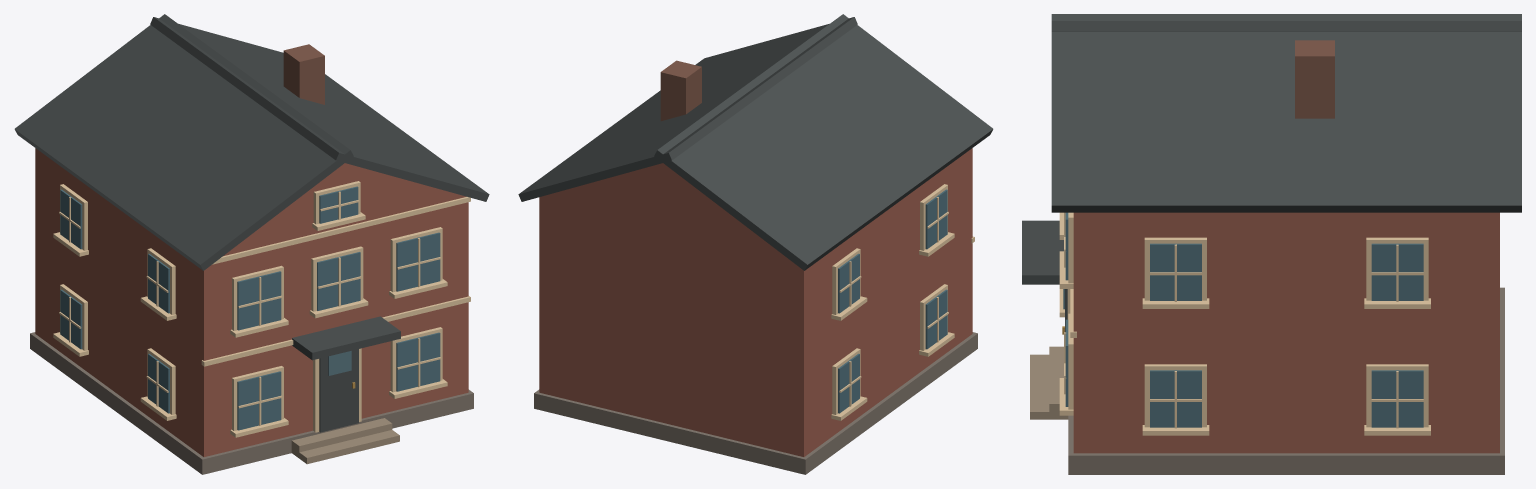
The model's file is red_gable_house.glb.
3 renders of one model, left to right at view 1: azimuth 30°, elevation 25°; view 2: azimuth 150°, elevation 25°; view 3: azimuth 270°, elevation 25°, orthographic. The views are drawn at different scales.
Visible parts, largest first — view 1: Main building, Sloping roof, Sloping roof.001, Stone foundation, Gable walls, Entry canopy, Door, Chimney, Blue glazing.007, Blue glazing.001, Blue glazing.002, Blue glazing.009 (+21 smaller); view 2: Main building, Sloping roof, Sloping roof.001, Stone foundation, Gable walls, Chimney, Blue glazing.010, Blue glazing.003, Blue glazing.011, Blue glazing.004, Window surround.011, Window surround.004 (+2 smaller); view 3: Main building, Sloping roof.001, Stone foundation, Sloping roof, Chimney, Blue glazing.013, Blue glazing.006, Blue glazing.012, Blue glazing.005, Entry canopy, Front step.001, Window surround.013 (+8 smaller).
Part boxes in pixels (x1,y1,x2,y2): Main building: (35,148,468,456); Sloping roof: (14,14,353,270); Sloping roof.001: (150,17,489,201); Stone foundation: (30,332,473,474); Gable walls: (229,163,460,251); Entry canopy: (292,316,400,360); Door: (319,349,358,432); Chimney: (283,44,324,104); Blue glazing.007: (237,271,281,330); Blue glazing.001: (237,371,281,430); Blue glazing.002: (396,332,440,391); Blue glazing.009: (396,232,440,291); Main building: (539,148,972,456); Sloping roof: (654,14,993,270); Sloping roof.001: (518,17,857,201); Stone foundation: (534,332,977,474); Gable walls: (547,163,778,251); Chimney: (660,60,701,121); Blue glazing.010: (925,189,947,249); Blue glazing.003: (925,289,947,349); Blue glazing.011: (838,253,859,313); Blue glazing.004: (838,353,859,413); Window surround.011: (832,248,860,314); Window surround.004: (832,348,860,414); Main building: (1073,212,1499,453); Sloping roof.001: (1051,14,1521,212); Stone foundation: (1068,287,1504,474); Sloping roof: (1051,21,1521,31); Chimney: (1295,40,1334,118); Blue glazing.013: (1371,243,1423,300); Blue glazing.006: (1371,370,1423,427); Blue glazing.012: (1150,243,1201,300); Blue glazing.005: (1150,370,1201,427); Entry canopy: (1022,220,1063,284); Front step.001: (1030,354,1049,419); Window surround.013: (1366,237,1428,300).
Size of the model in its own units: 7.47 by 7.46 by 8.84.
